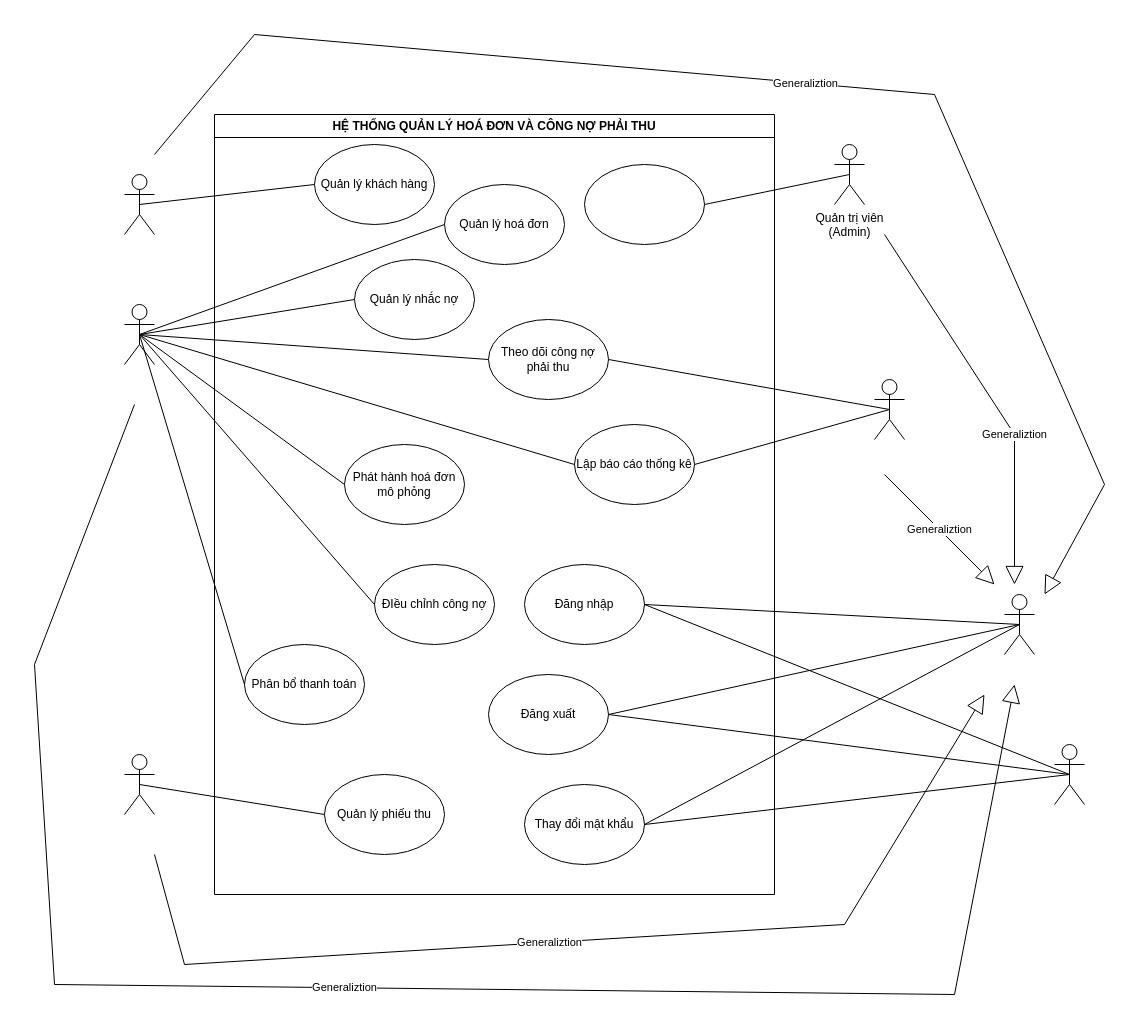
Image size: 1140x1030. Some labels were removed from this diagram. Each missing label, with the centre of its shape:
Bang quản lý: the point at 889,409
keycloak (Dịch vụ xác thực): the point at 1069,774
Kế toán công nợ: the point at 139,334
Người dùng nội bộ: the point at 1019,624
Nhân viên kinh doanh: the point at 139,204
Nhân viên thu tiền: the point at 139,784
Quản lý người dùng: the point at 644,204
